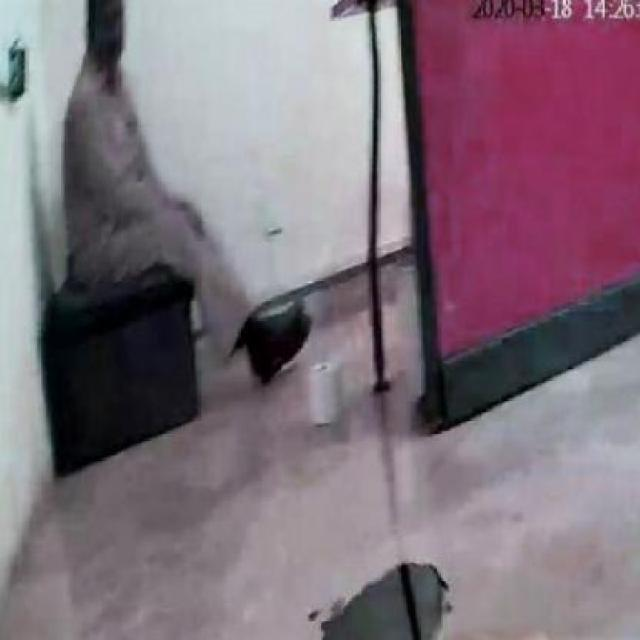spillage: (309, 562, 452, 640)
